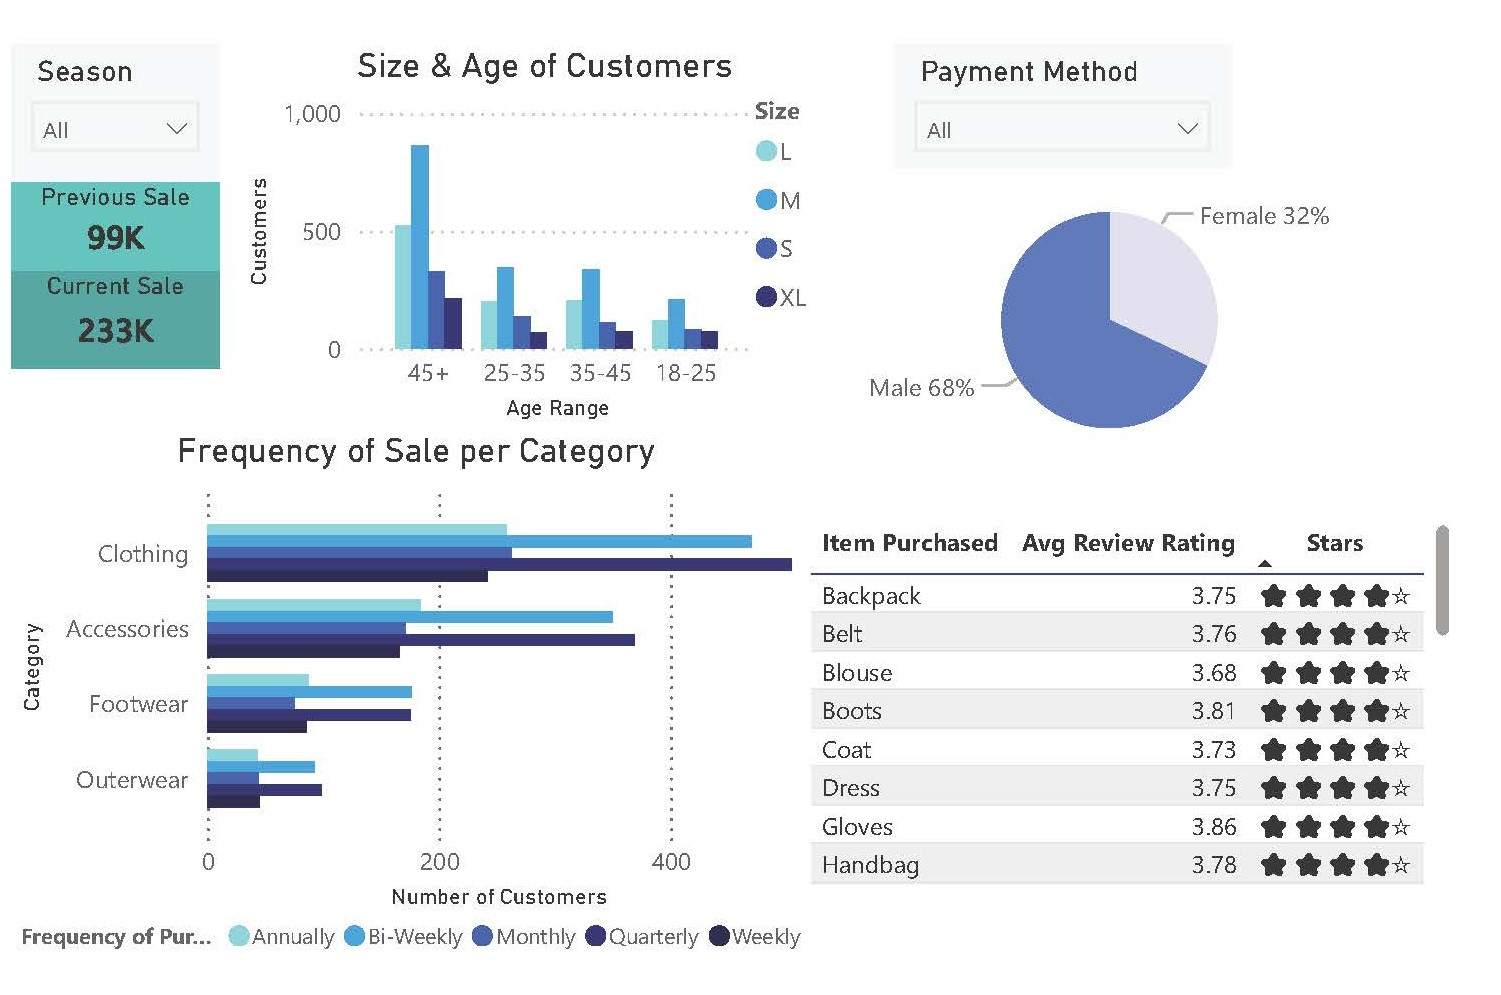

The dashboard page shown, as its layout file describes it:
{"tool":"powerbi","page":{"name":"Page 1","canvas":[1280,720],"ordinal":0},"visuals":[{"type":"slicer","fields":{"Values":["shopping_trends_updated.Season"]},"box":[0,0,103,68],"z":0},{"type":"slicer","fields":{"Values":["shopping_trends_updated.Payment Method"]},"box":[436,0,166,73],"z":1000},{"type":"card","title":"Previous Sale","fields":{"Values":["Sum(shopping_trends_updated.Previous Purchases)"]},"box":[0,68,103,44],"z":2000},{"type":"clusteredBarChart","title":"Frequency of Sale per Category","fields":{"Category":["shopping_trends_updated.Category"],"Series":["shopping_trends_updated.Frequency of Purchases"],"Y":["CountNonNull(shopping_trends_updated.Customer ID)"]},"box":[0,190,400,268],"z":3000},{"type":"lineClusteredColumnComboChart","title":"Size & Age of Customers ","fields":{"Category":["shopping_trends_updated.Age Range"],"Series":["shopping_trends_updated.Size"],"Y":["CountNonNull(shopping_trends_updated.Customer ID)"]},"box":[112,0,303,190],"z":6000},{"type":"pieChart","fields":{"Y":["shopping_trends_updated.Female","shopping_trends_updated.Male"]},"box":[415,61,254,150],"z":6001},{"type":"card","title":"Current Sale","fields":{"Values":["Sum(shopping_trends_updated.Purchase Amount (USD))"]},"box":[0,112,103,48],"z":6002},{"type":"tableEx","fields":{"Values":["shopping_trends_updated.Item Purchased","Avg(shopping_trends_updated.Review Rating)","shopping_trends_updated.Rating"]},"box":[389,231,327,188],"z":6003}]}

Visuals, with their boxes on the page's 1280x720 design canvas (x1, y1, x2, y2). These are canvas units, not pixel positions in the 1501x995 screenshot, which may show the page scaled, cropped or inside an application window:
slicer - shopping_trends_updated.Season: 0:0:103:68
slicer - shopping_trends_updated.Payment Method: 436:0:602:73
"Previous Sale" card: 0:68:103:112
"Frequency of Sale per Category" clusteredBarChart: 0:190:400:458
"Size & Age of Customers " lineClusteredColumnComboChart: 112:0:415:190
pieChart - shopping_trends_updated.Female x shopping_trends_updated.Male: 415:61:669:211
"Current Sale" card: 0:112:103:160
tableEx - shopping_trends_updated.Item Purchased x Avg(shopping_trends_updated.Review Rating): 389:231:716:419
